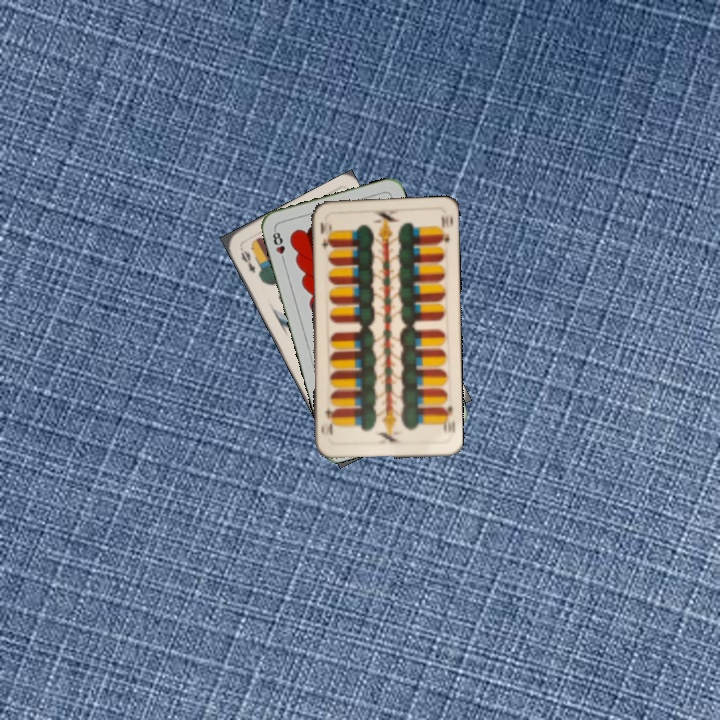E10: (438, 402, 458, 436), (316, 219, 334, 251)
EO: (237, 246, 258, 275)
H8: (268, 225, 288, 265)
